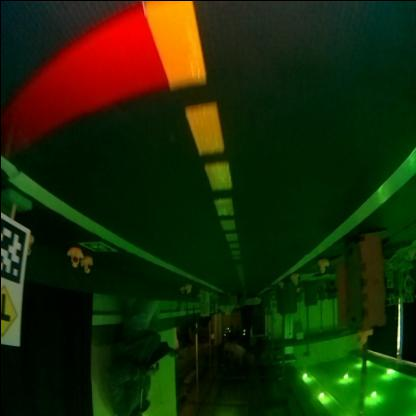Duckie: (66, 249, 81, 267), (358, 329, 370, 344), (81, 257, 92, 273), (318, 259, 326, 272), (290, 276, 298, 284), (184, 284, 189, 292)
Intersection sign: (1, 285, 19, 339)
QR code: (0, 216, 24, 282), (79, 241, 113, 254)
